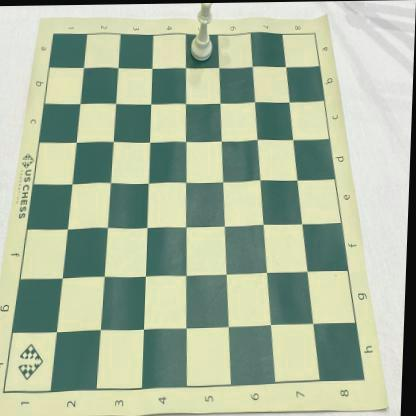white-queen: (190, 3, 214, 62)
